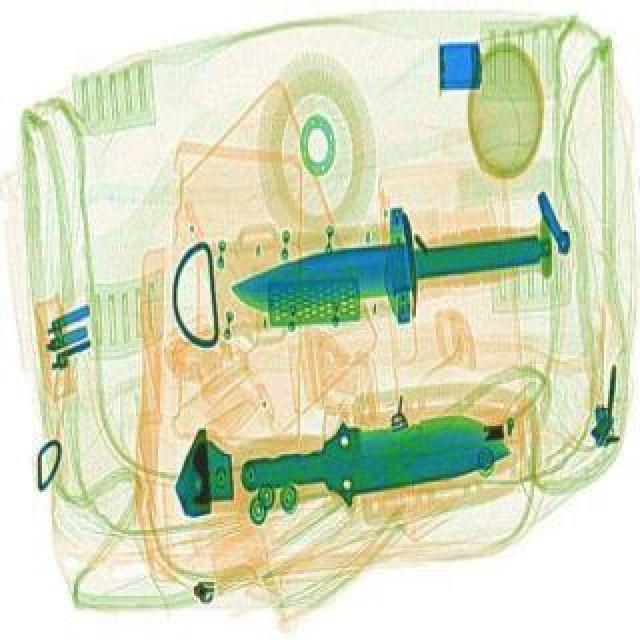knife: (230, 216, 552, 316), (236, 400, 516, 514)
